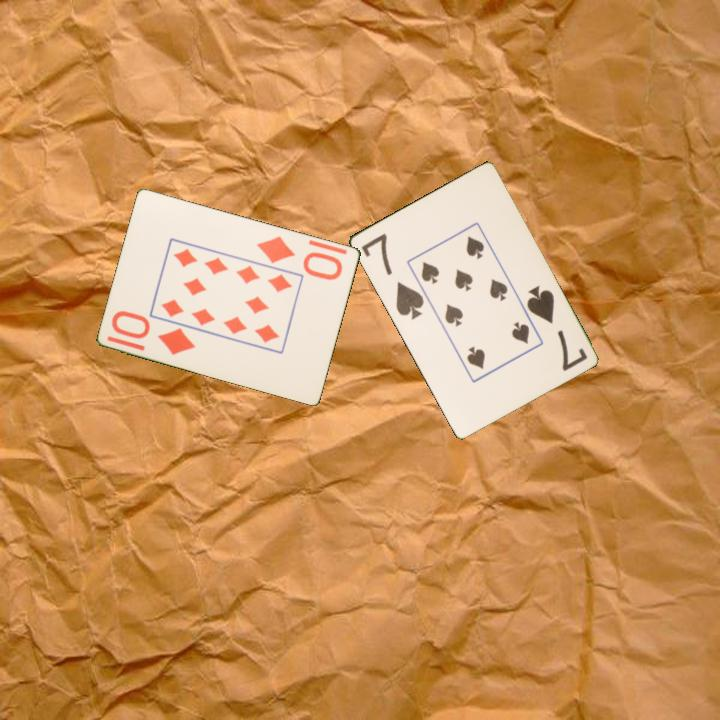10d: (253, 232, 346, 283), (108, 308, 199, 358)
7s: (357, 229, 427, 323), (523, 282, 590, 374)
